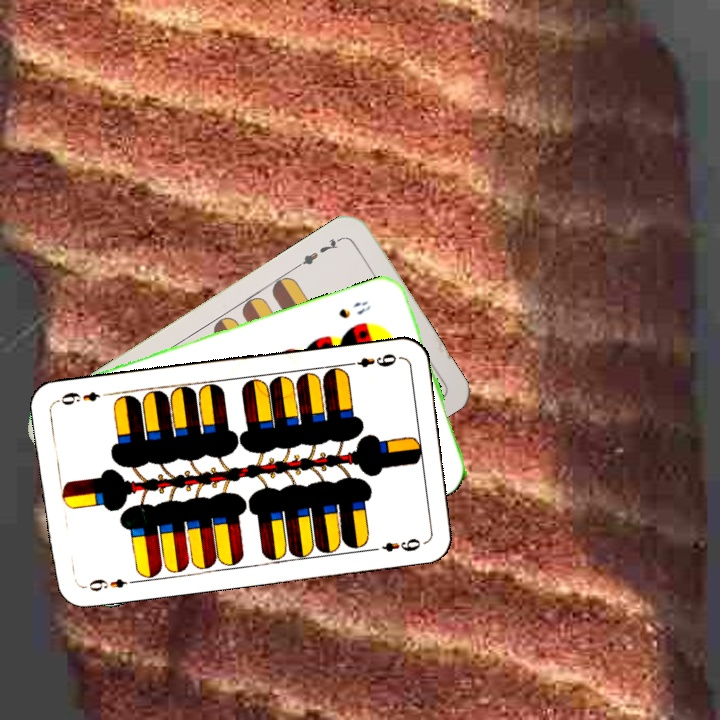E7: (293, 232, 346, 270)
E9: (343, 349, 399, 371), (79, 575, 138, 594)
S8: (334, 296, 373, 321)
